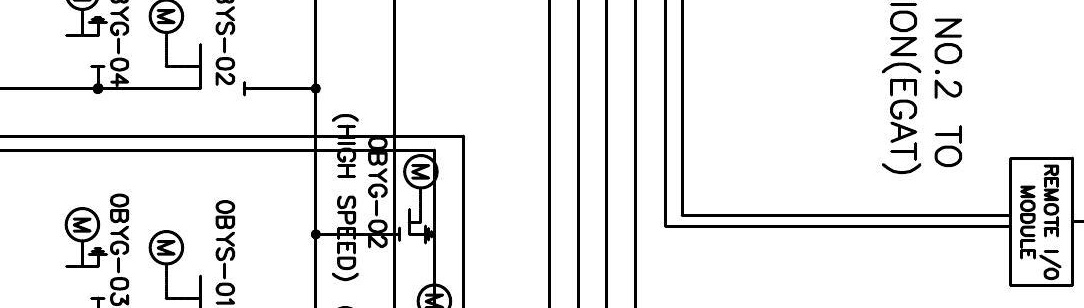115_gs_w_motor: (64, 206, 109, 300), (398, 153, 440, 246)
remote_io_module: (1009, 156, 1074, 287)
